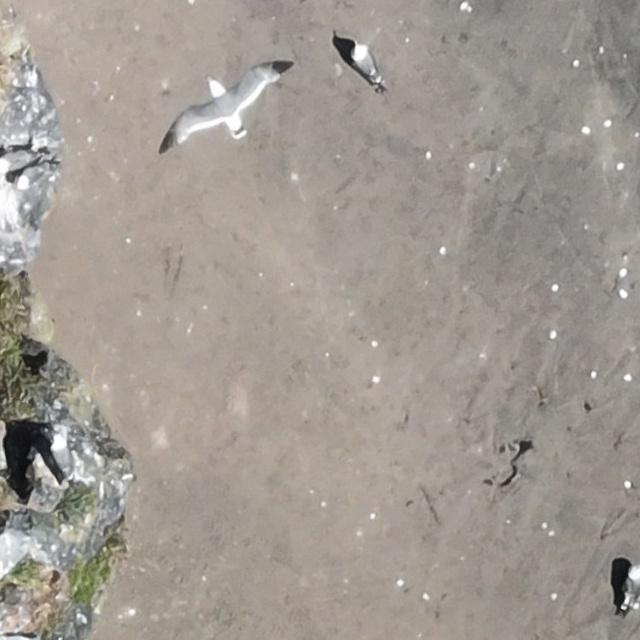F: (169, 65, 285, 146)
umineko: (3, 145, 41, 176), (18, 164, 53, 189), (356, 47, 378, 78), (53, 440, 69, 474)
